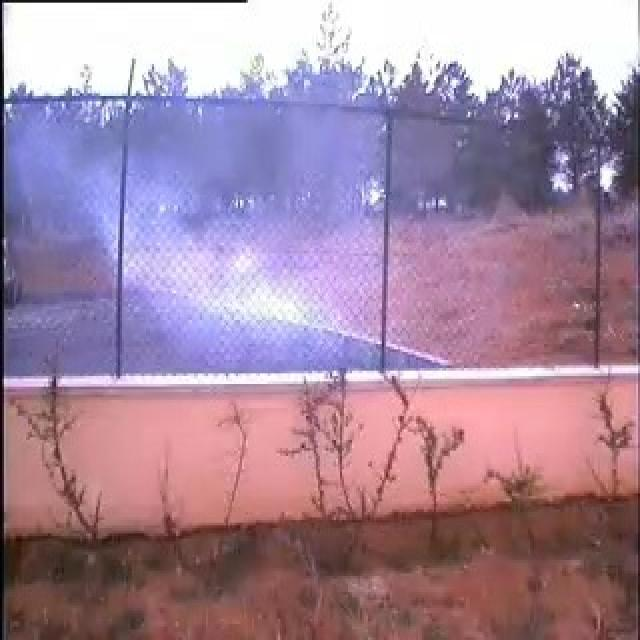smoke: (122, 118, 390, 379)
